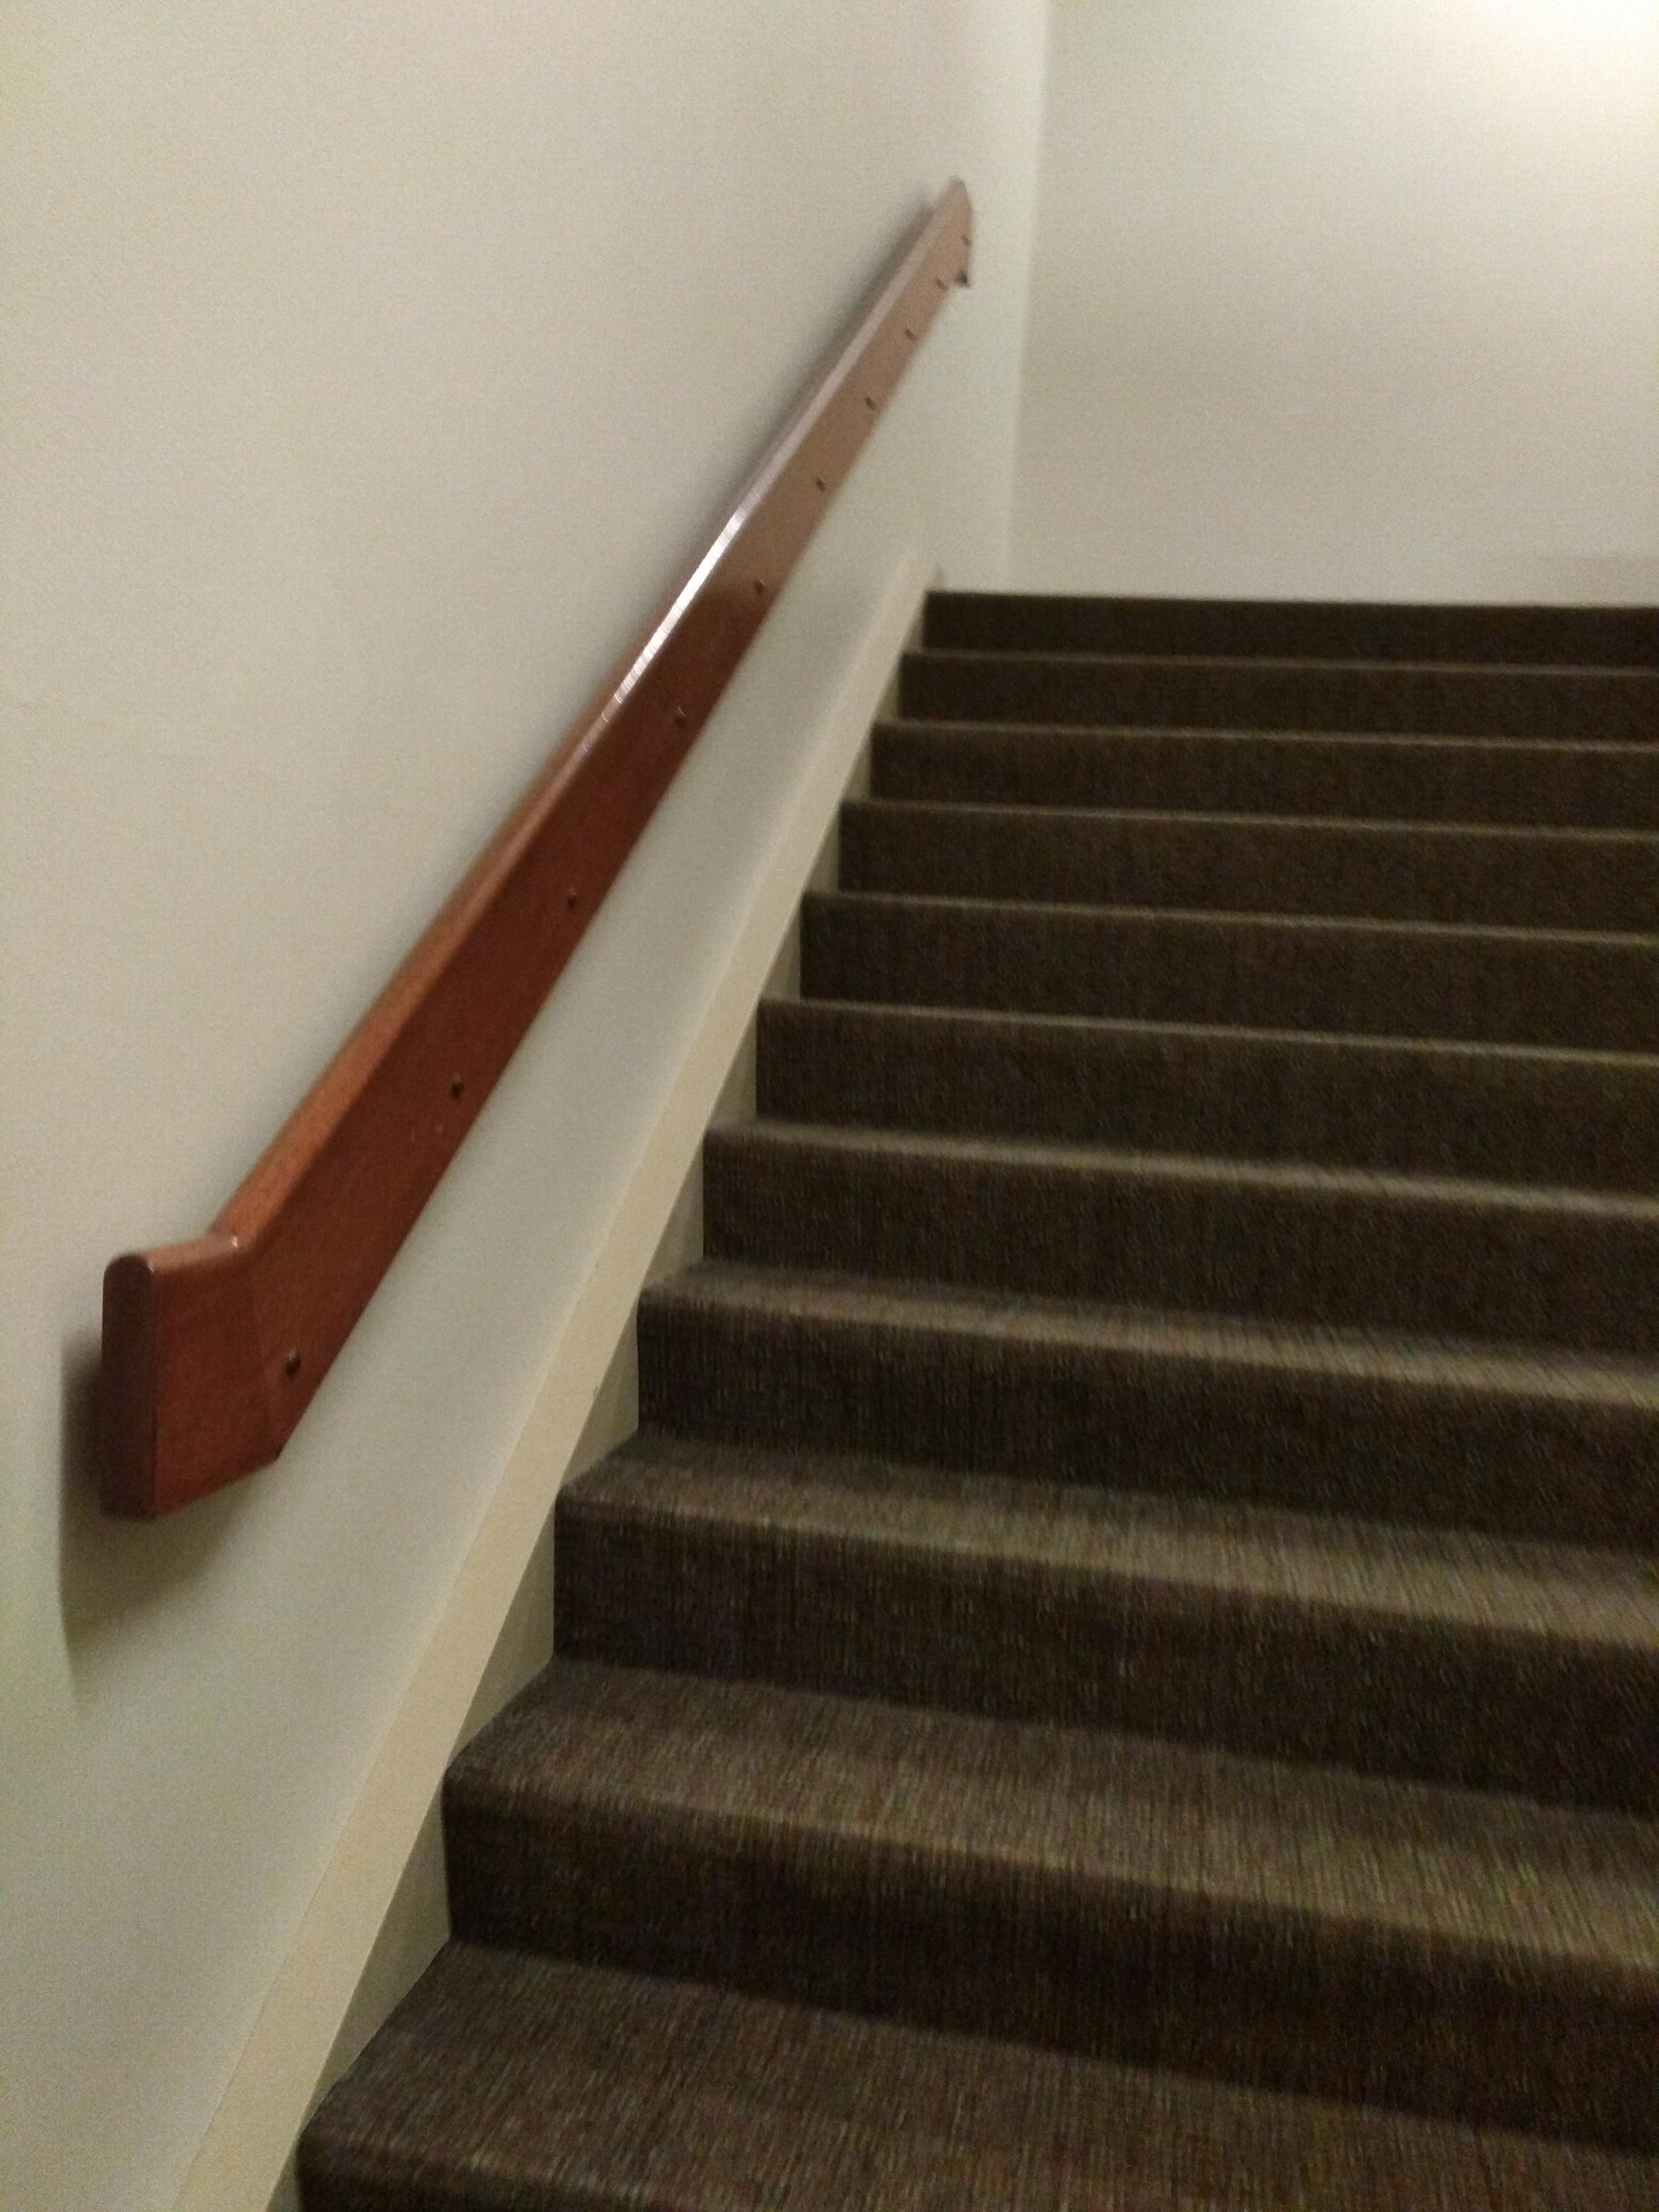stairs_up: (284, 547, 1659, 2212)
